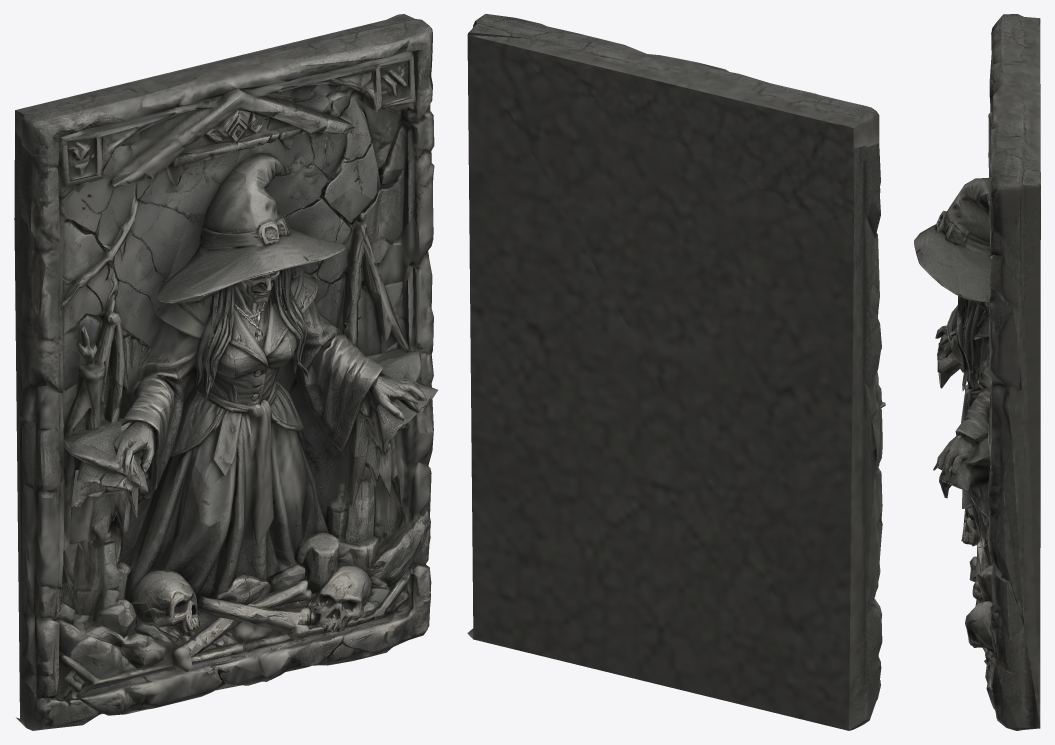
The model's file is Decoration_evil_witch.glb.
The picture shows the model from 3 angles, left to right: view 1: azimuth 30°, elevation 25°; view 2: azimuth 150°, elevation 25°; view 3: azimuth 270°, elevation 25°; orthographic projection. The views are drawn at different scales.
Parts seen in each view (by area): view 1: Mesh_0; view 2: Mesh_0; view 3: Mesh_0.
Boxes of the visible parts, x1,y1,x2,y2 form: Mesh_0: (14, 14, 437, 730); Mesh_0: (467, 14, 885, 730); Mesh_0: (914, 14, 1040, 730).
Size of the model in its own units: 1.31 by 1.9 by 0.3964.
1 material, 1 textured.
